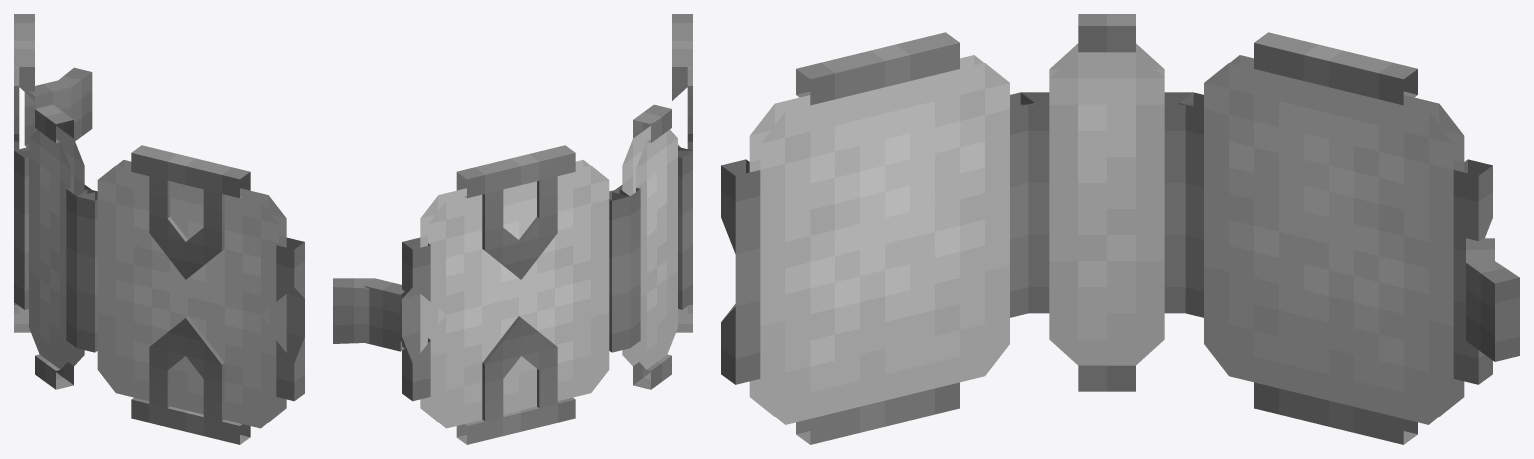
File: rotebook_open_tint.obj
3 renders of one model, left to right at view 1: azimuth 30°, elevation 25°; view 2: azimuth 150°, elevation 25°; view 3: azimuth 270°, elevation 25°, orthographic. The views are drawn at different scales.
Visible parts, largest first — view 1: COVER_FRONT_VAR3_OPEN_Cube.131, SPINE_VAR3_OPEN_Cube.133, STRAP_VAR3_OPEN_Cube.140, COVER_BACK_VAR3_OPEN_Cube.138; view 2: COVER_BACK_VAR3_OPEN_Cube.138, SPINE_VAR3_OPEN_Cube.133, STRAP_VAR3_OPEN_Cube.140, COVER_FRONT_VAR3_OPEN_Cube.131; view 3: COVER_FRONT_VAR3_OPEN_Cube.131, COVER_BACK_VAR3_OPEN_Cube.138, SPINE_VAR3_OPEN_Cube.133, STRAP_VAR3_OPEN_Cube.140.
Part boxes in pixels (left/top/right/bottom): COVER_FRONT_VAR3_OPEN_Cube.131: left=77, top=145, right=304, bottom=444; SPINE_VAR3_OPEN_Cube.133: left=14, top=104, right=94, bottom=389; STRAP_VAR3_OPEN_Cube.140: left=24, top=67, right=92, bottom=146; COVER_BACK_VAR3_OPEN_Cube.138: left=14, top=14, right=34, bottom=332; COVER_BACK_VAR3_OPEN_Cube.138: left=402, top=145, right=629, bottom=444; SPINE_VAR3_OPEN_Cube.133: left=612, top=104, right=692, bottom=389; STRAP_VAR3_OPEN_Cube.140: left=333, top=278, right=410, bottom=351; COVER_FRONT_VAR3_OPEN_Cube.131: left=672, top=14, right=692, bottom=332; COVER_FRONT_VAR3_OPEN_Cube.131: left=721, top=32, right=1034, bottom=444; COVER_BACK_VAR3_OPEN_Cube.138: left=1179, top=32, right=1492, bottom=444; SPINE_VAR3_OPEN_Cube.133: left=1020, top=14, right=1193, bottom=391; STRAP_VAR3_OPEN_Cube.140: left=1466, top=238, right=1519, bottom=361.
Bounding box in the file's own units: 0.6468 × 0.875 × 1.73.
